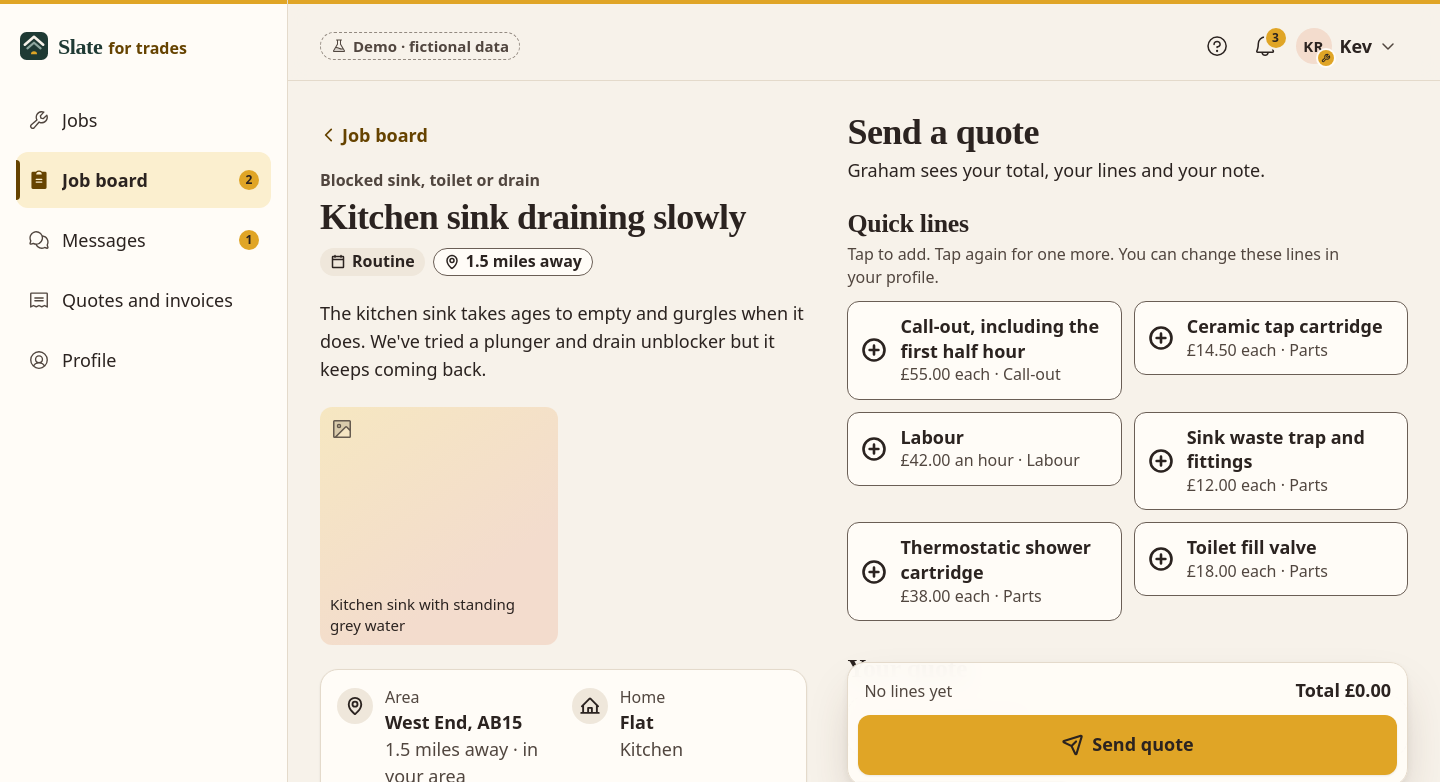
Test: the job board › won’t send an empty quote
Expected: the heading "Kitchen sink draining slowly" is shown, top-left (320, 198), bottom-right (807, 238)
What coordinates should you click on to do the following:
click the button "Send quote"
I would click on:
 (1128, 745)
Its box is top-left (858, 715), bottom-right (1397, 775).
(page scrolled)
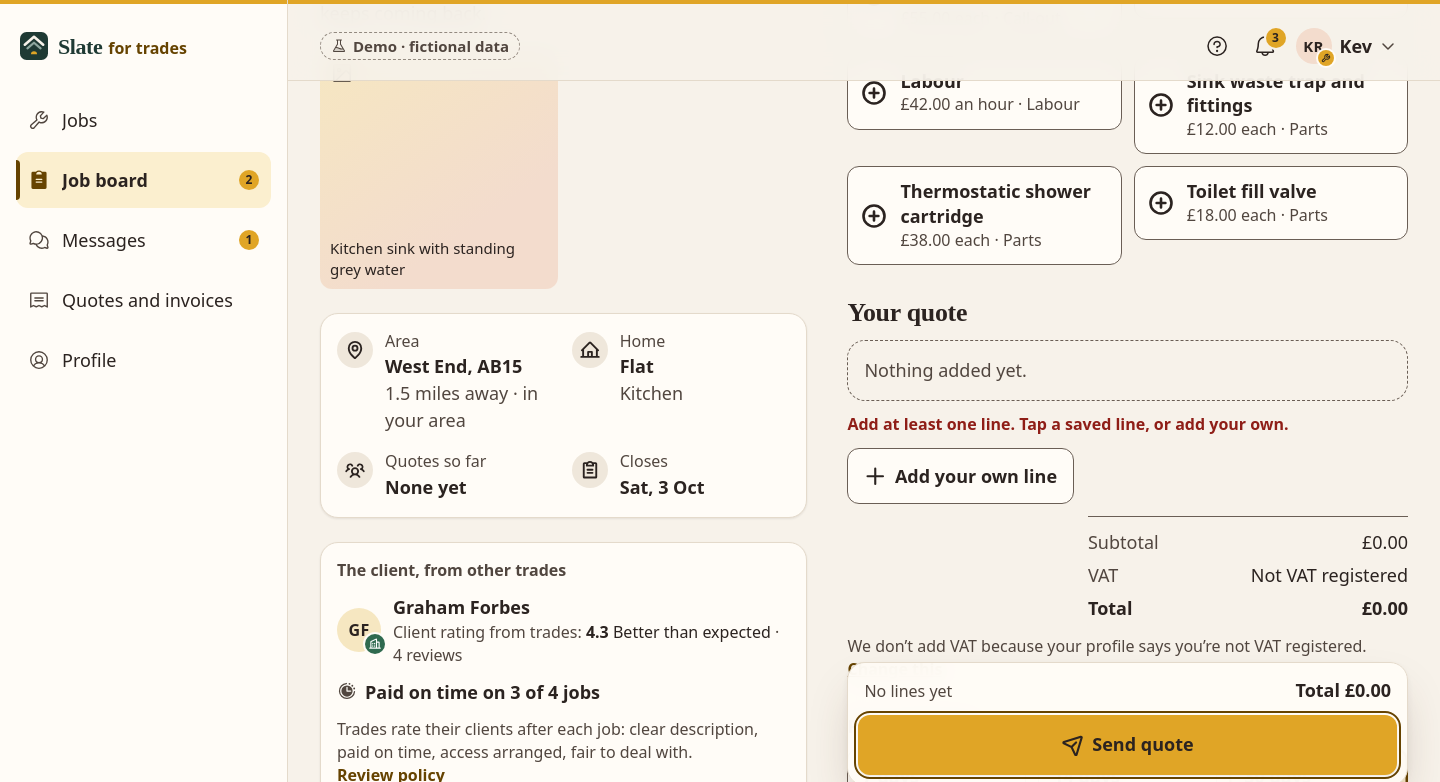
Now the text "Add at least one line. Tap a saved line, or add your own." is shown, box top-left (847, 413), bottom-right (1288, 435)
